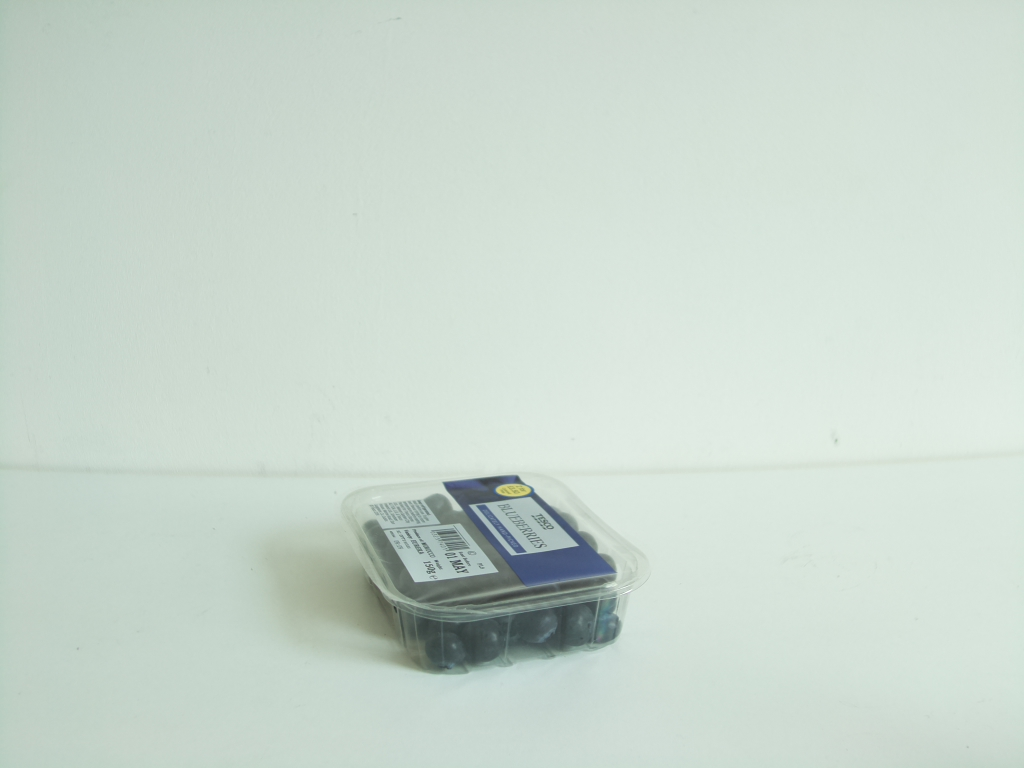soft-fruit: (338, 473, 642, 680)
